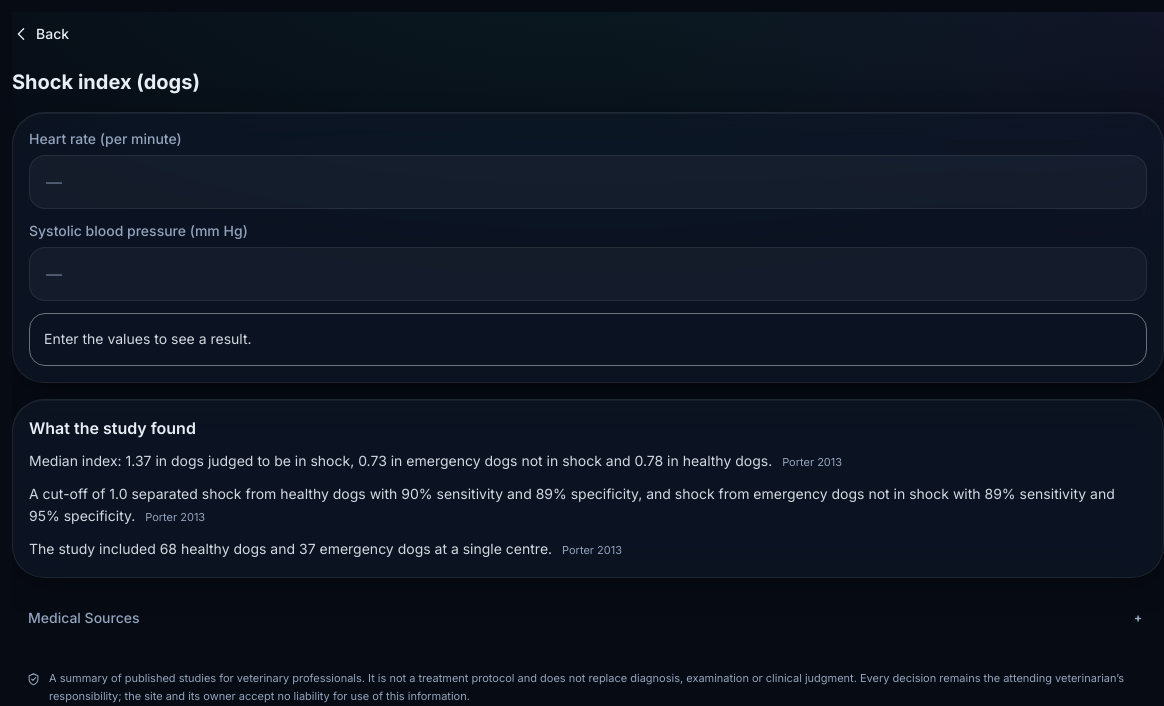
Test case: bedside calculators › shock index: 140 ÷ 100 = 1.4, above the published cut-off
The image size is (1164, 706).
Step 1. Type "140" into the number field labelled "Heart rate (per minute)" → (588, 182), box [29,155,1147,209]
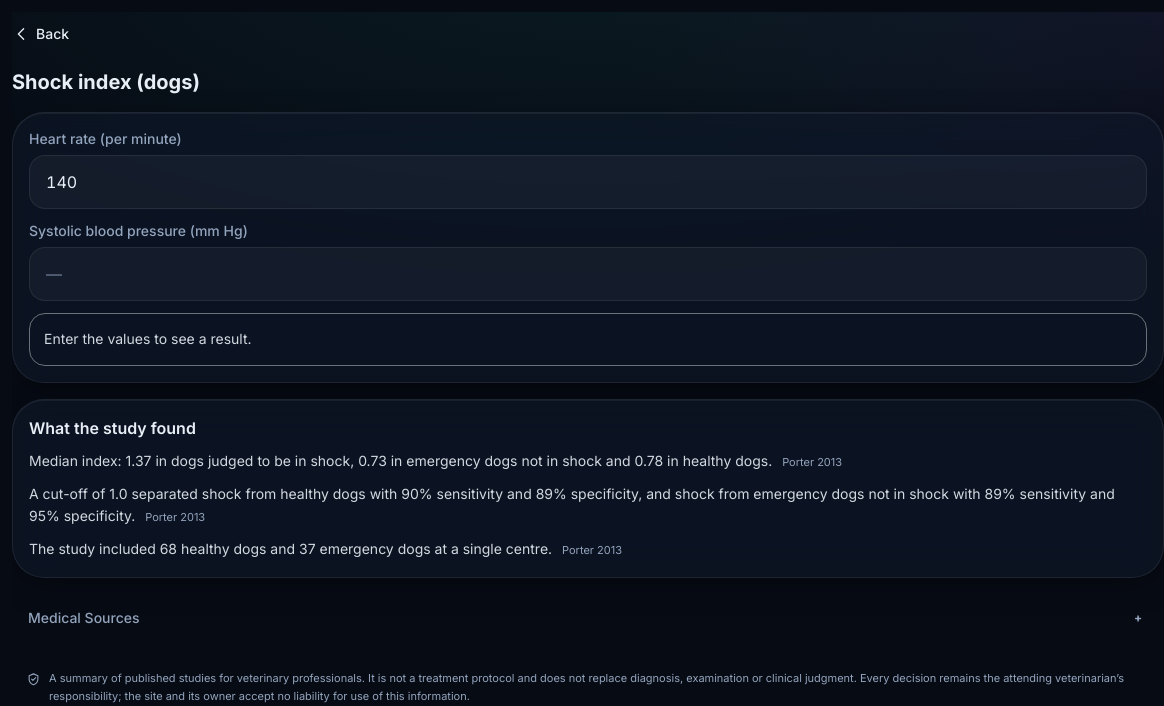
Step 2. Type "100" into the number field labelled "Systolic blood pressure (mm Hg)" → (588, 274), box [29,247,1147,301]
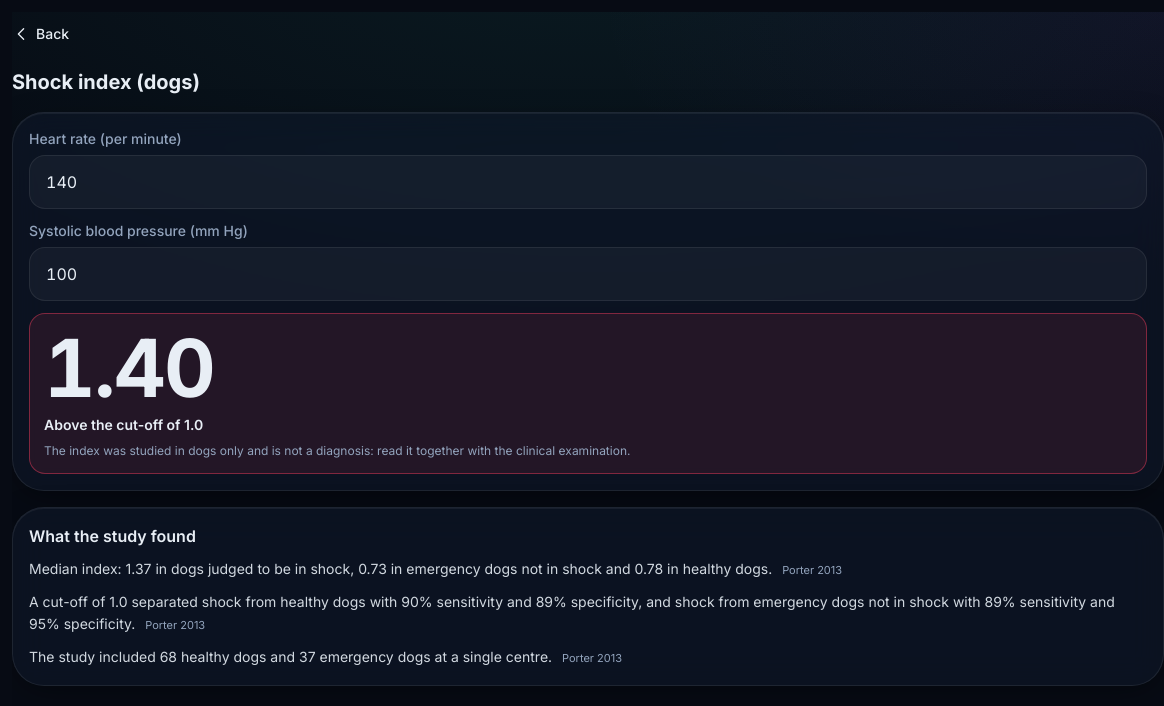
Result: the message shows "1.40" at [44,319,214,416]
Result: the message shows "Above the cut-off of 1.0" at [44,416,203,433]
